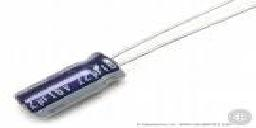Electrolytic-capacitor: (4, 2, 256, 117), (15, 51, 127, 121)
